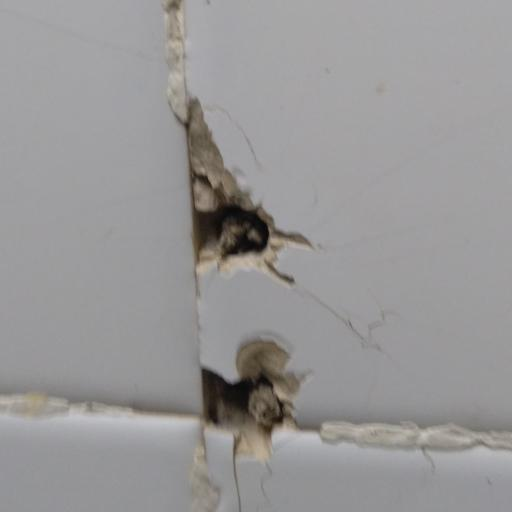spalling: (149, 14, 334, 309), (164, 329, 313, 470)
